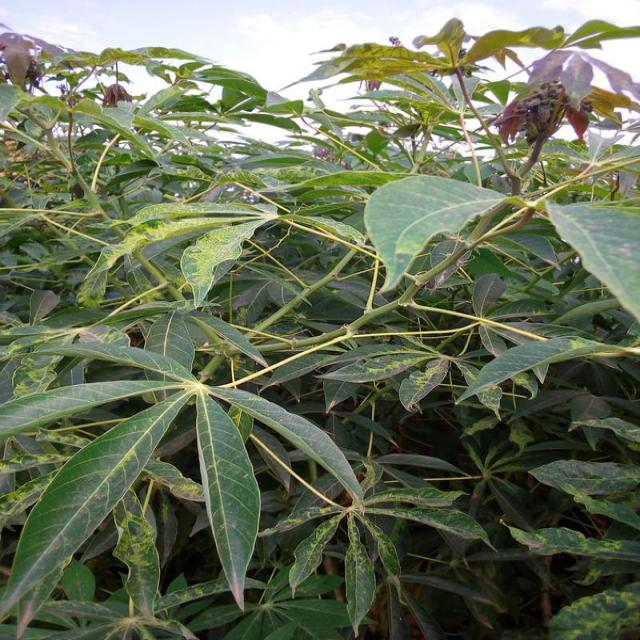cassava leaf: (0, 18, 638, 638), (0, 386, 195, 638), (362, 172, 512, 294), (193, 388, 260, 611), (544, 196, 639, 324)
